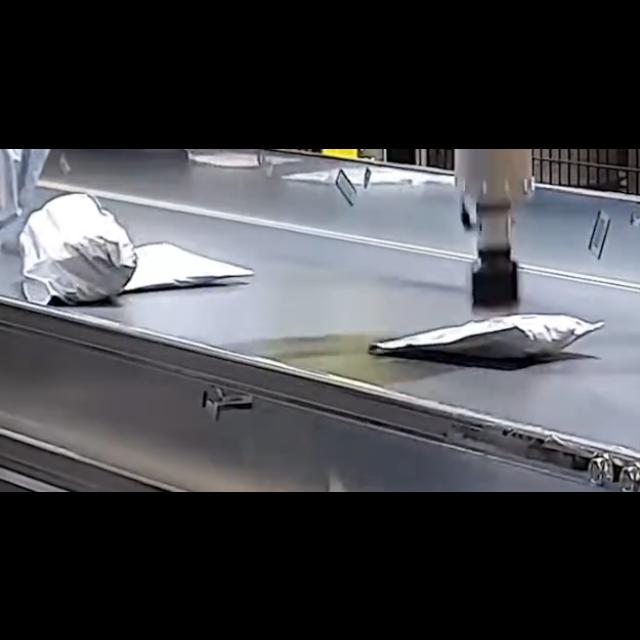mailer: (18, 194, 130, 306), (370, 314, 604, 362), (117, 240, 250, 290)
